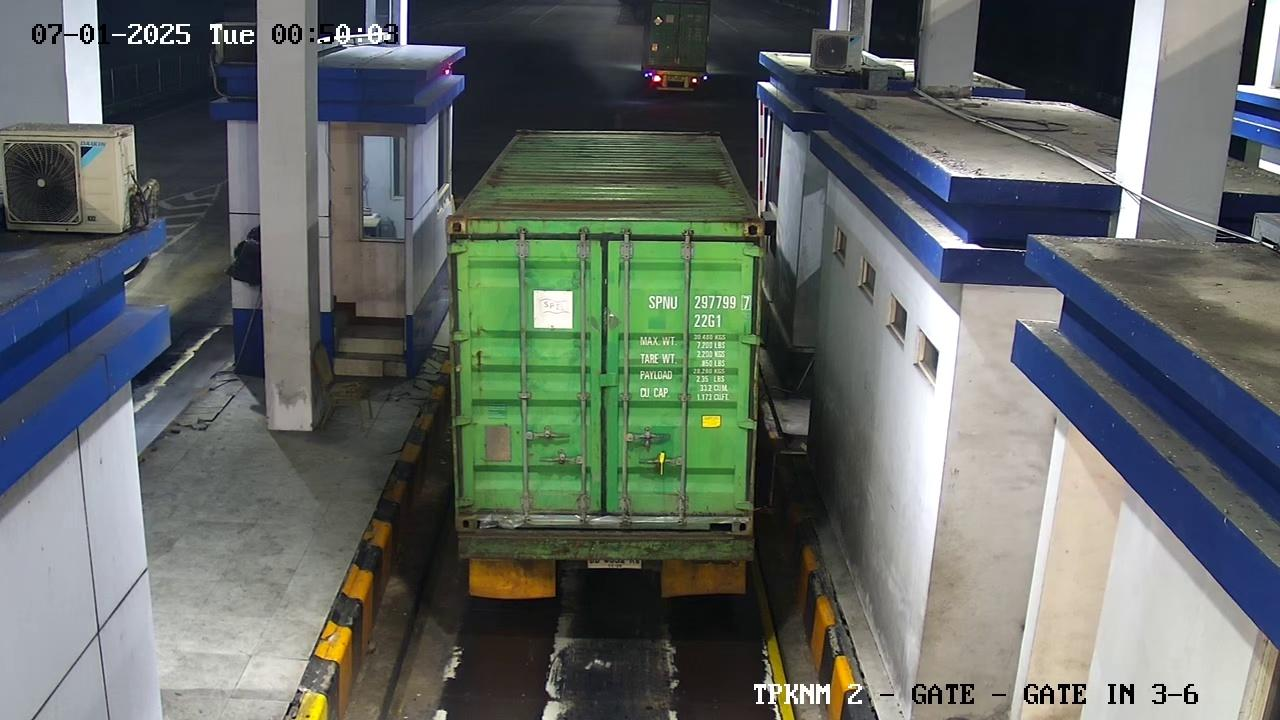Container_ID: (625, 285, 759, 336)
